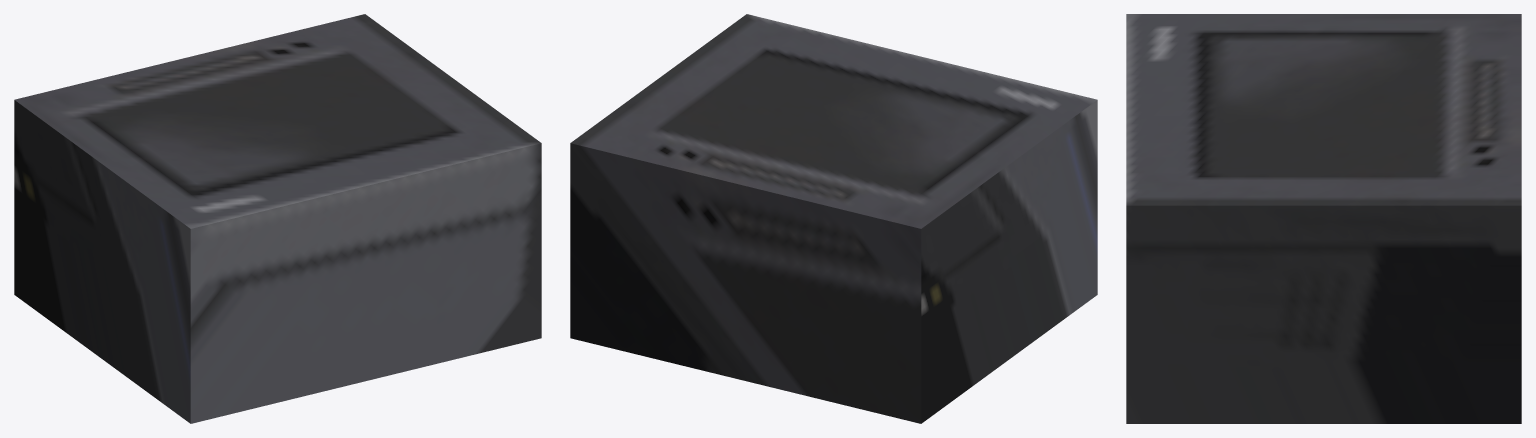
Rendered from pz_house_tv_value.obj.
3 views of the same model, side by side, from view 1: azimuth 30°, elevation 25°; view 2: azimuth 150°, elevation 25°; view 3: azimuth 270°, elevation 25° (orthographic). The views are drawn at different scales.
Parts seen in each view (by area): view 1: pz_house_tv_value_|_1_parte_1; view 2: pz_house_tv_value_|_1_parte_1; view 3: pz_house_tv_value_|_1_parte_1.
Part boxes in pixels (<box>): pz_house_tv_value_|_1_parte_1: <box>14,14,541,423</box>; pz_house_tv_value_|_1_parte_1: <box>570,14,1097,423</box>; pz_house_tv_value_|_1_parte_1: <box>1126,14,1521,423</box>.
Bounding box in the file's own units: 0.7337 × 0.3899 × 0.639.
1 material, 1 textured.
